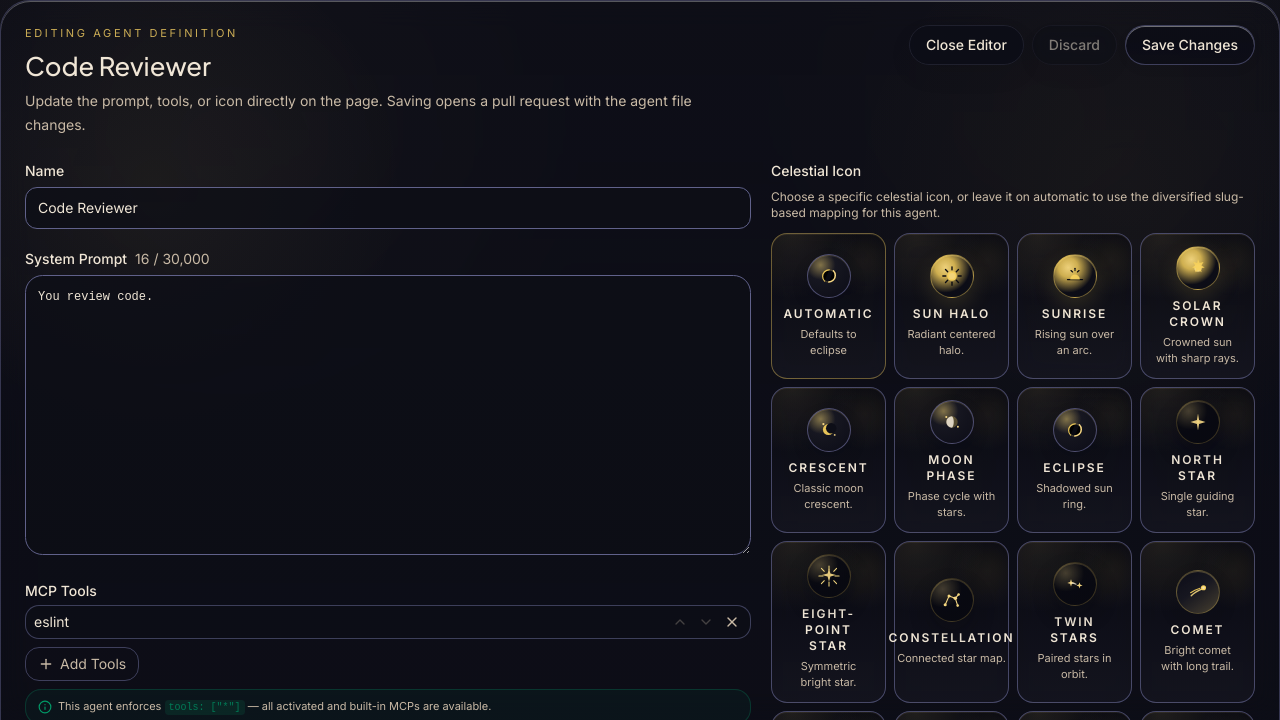
Scenario: AgentInlineEditor › shows validation error when saving with empty name
Clear the field labelled "Name": (388, 208) top-left (25, 188), bottom-right (751, 230)
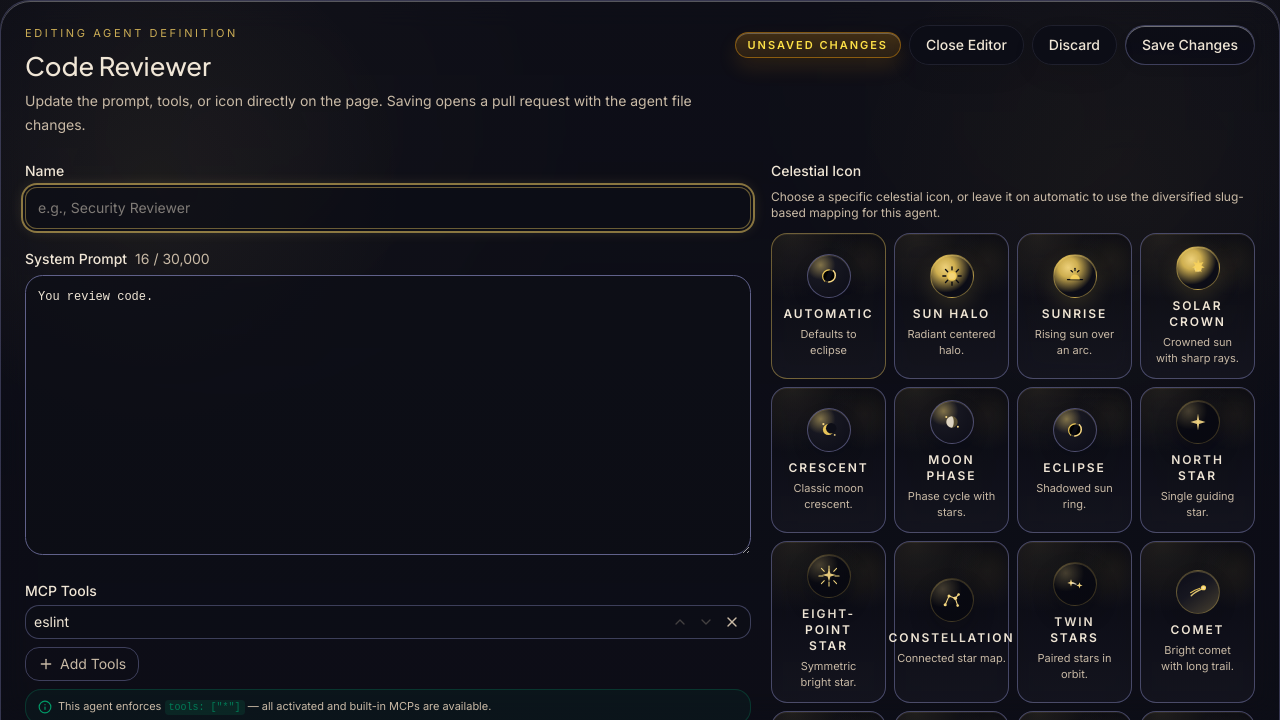
Click the button "Save Changes": (1190, 45) top-left (1125, 25), bottom-right (1255, 65)
(page scrolled)
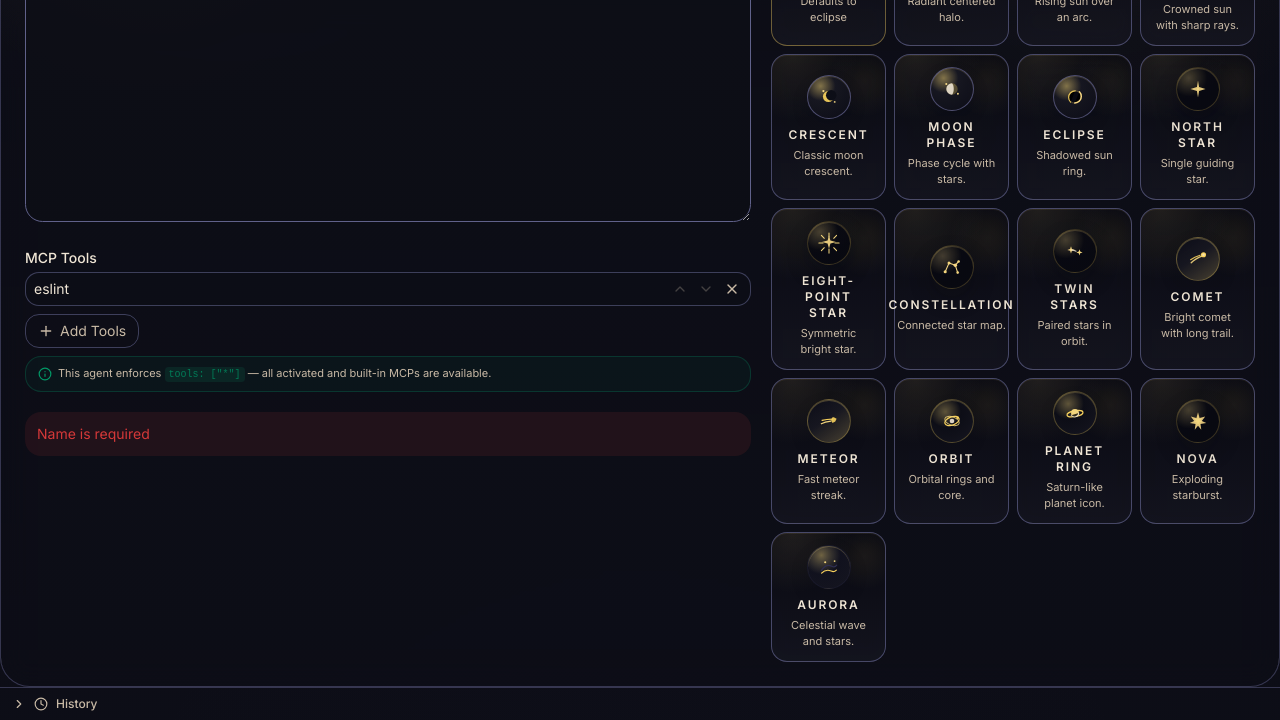
Expected: the text "Name is required" is shown, top-left (25, 412), bottom-right (751, 456)
